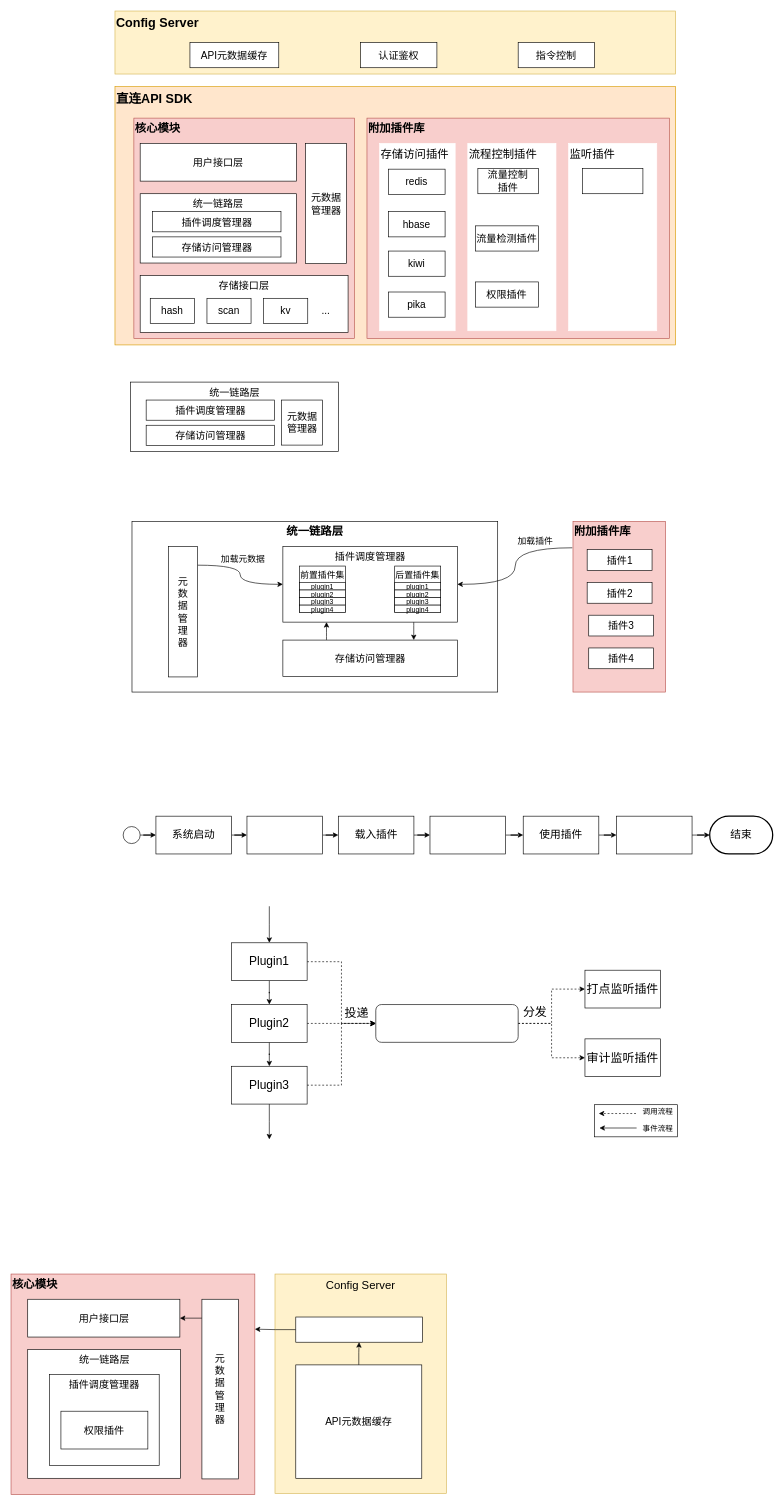
Image size: 784x1506. Some labels were removed from this diagram. Here are the shapes that lost their labels. From the top down, the centre of each, then its label:
At (612,181): "打点审计 插件".
At (284,835): "扫描插件".
At (467,835): "执行初始化 操作".
At (654,835): "销毁插件".
At (446,1023): "事件处理中心".
At (358,1329): "鉴权".
